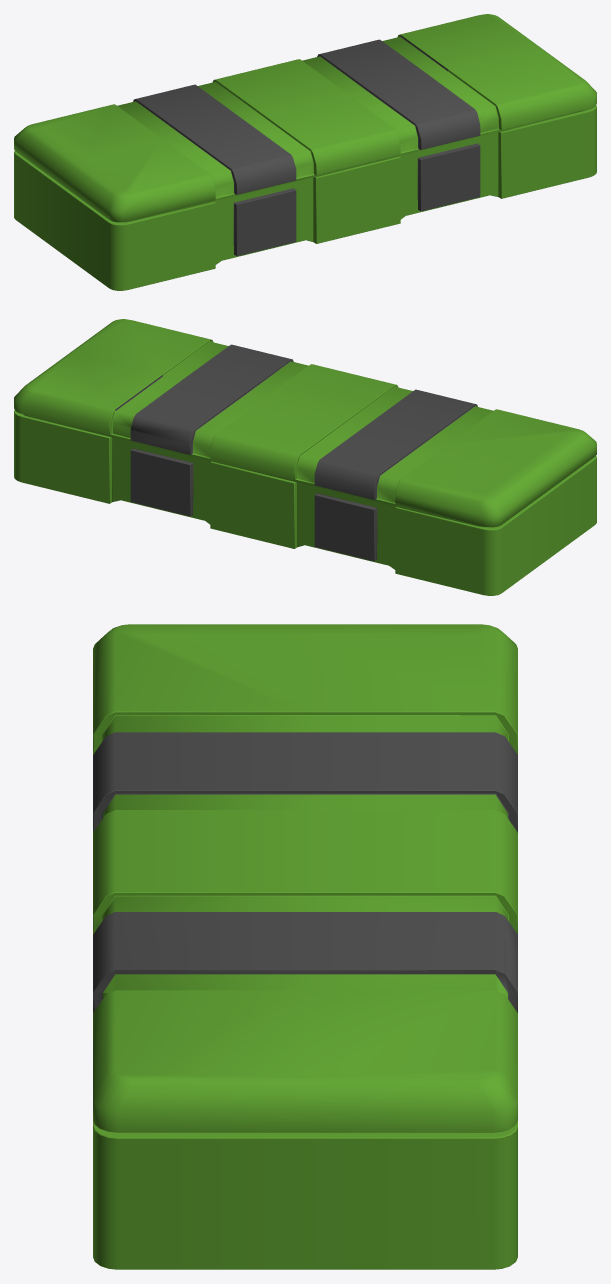
The model's file is Crate_01a.fbx.
3 views of the same model, one above another, from view 1: azimuth 30°, elevation 25°; view 2: azimuth 150°, elevation 25°; view 3: azimuth 270°, elevation 25° (orthographic). The views are drawn at different scales.
Parts seen in each view (by area): view 1: Crate_01a; view 2: Crate_01a; view 3: Crate_01a.
Boxes of the visible parts, x1,y1,x2,y2 form: Crate_01a: (14,14,596,290); Crate_01a: (14,319,596,595); Crate_01a: (93,624,517,1269).
Bounding box in the file's own units: 150 × 26.75 × 56.7.
